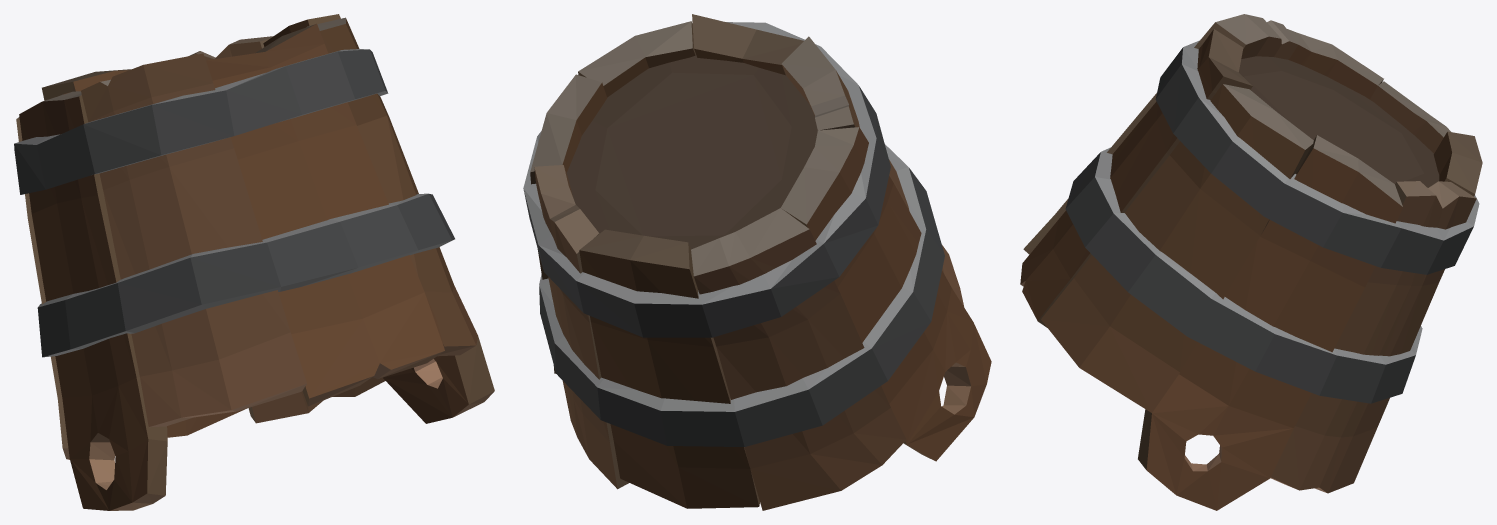
Rendered from bucketHat.glb.
The picture shows the model from 3 angles, left to right: view 1: azimuth 30°, elevation 25°; view 2: azimuth 150°, elevation 25°; view 3: azimuth 270°, elevation 25°; orthographic projection. The views are drawn at different scales.
Parts seen in each view (by area): view 1: bucketHat; view 2: bucketHat; view 3: bucketHat.
Boxes of the visible parts, x1=… form: bucketHat: x1=14, y1=14, x2=494, y2=510; bucketHat: x1=523, y1=14, x2=991, y2=510; bucketHat: x1=1020, y1=14, x2=1482, y2=510.
Size of the model in its own units: 0.3935 by 0.43 by 0.4425.
